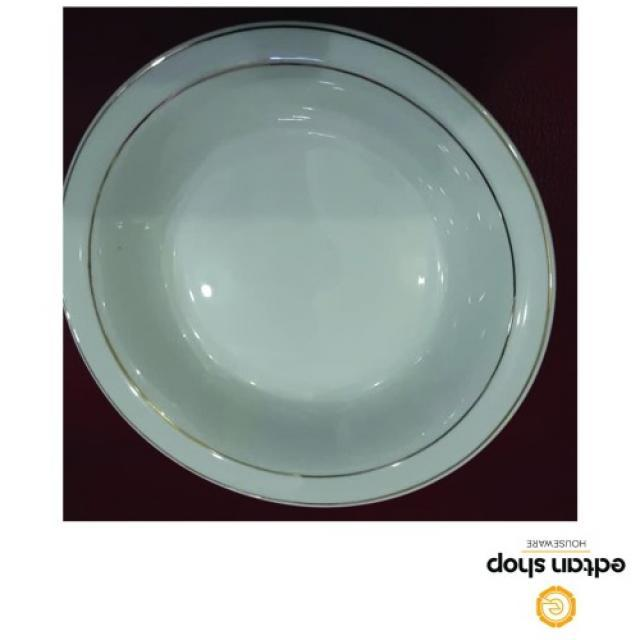plate: (59, 4, 571, 516)
